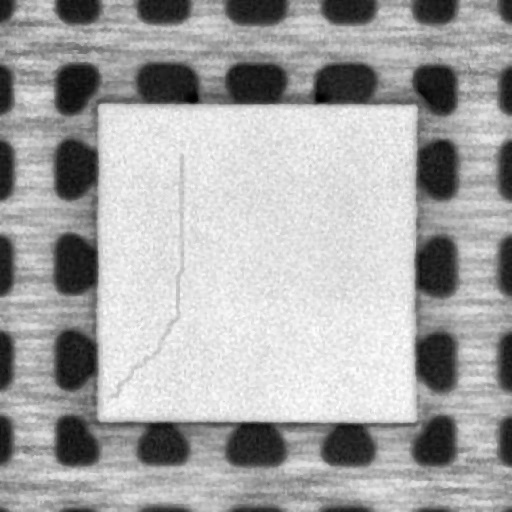DIE_CRACK: (110, 154, 184, 397)
